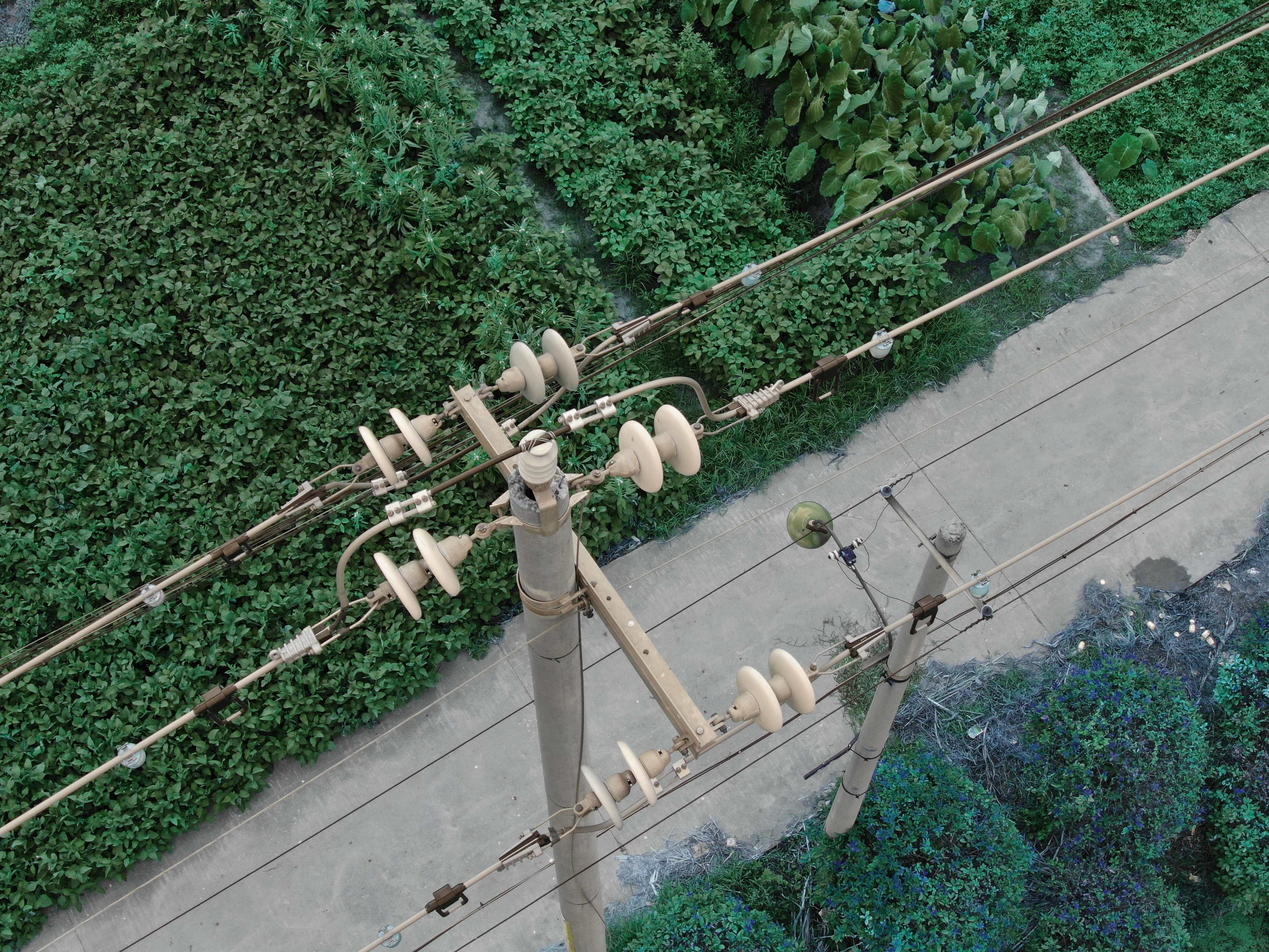severe_soiling_no_discharge_whole: (979, 603, 996, 619), (879, 483, 893, 500)
